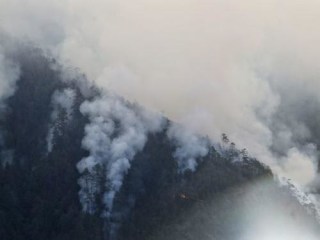smoke: (74, 12, 311, 191), (45, 66, 167, 218)
